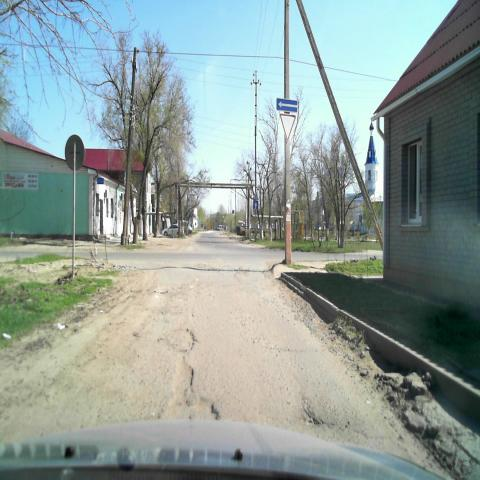5_7_2: (277, 98, 299, 113)
